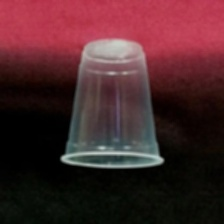glass: (55, 33, 169, 172)
